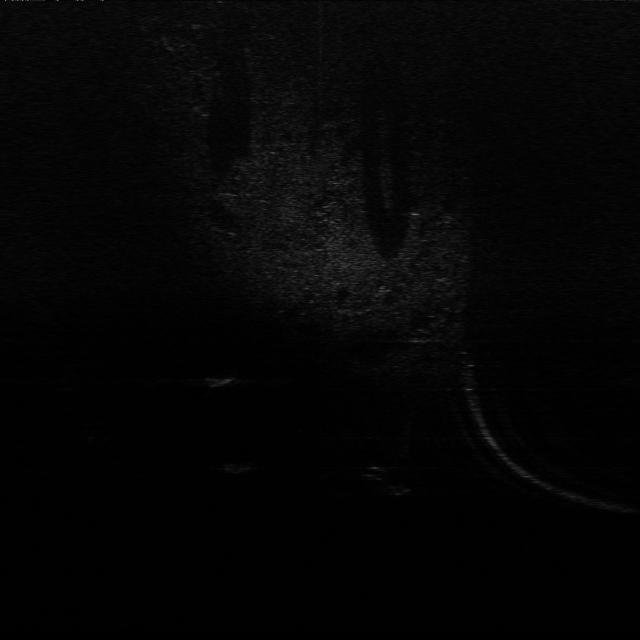cube: (213, 451, 259, 479)
square cage: (193, 364, 244, 391)
tyre: (362, 460, 417, 500)
